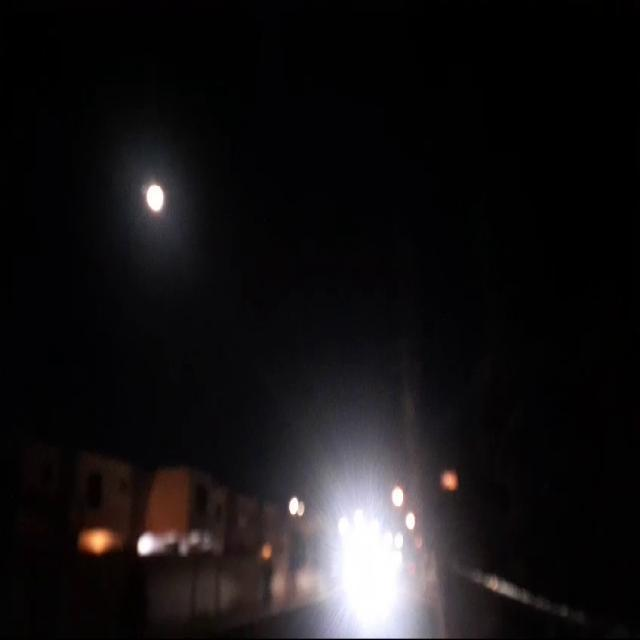moon: (148, 168, 169, 204)
